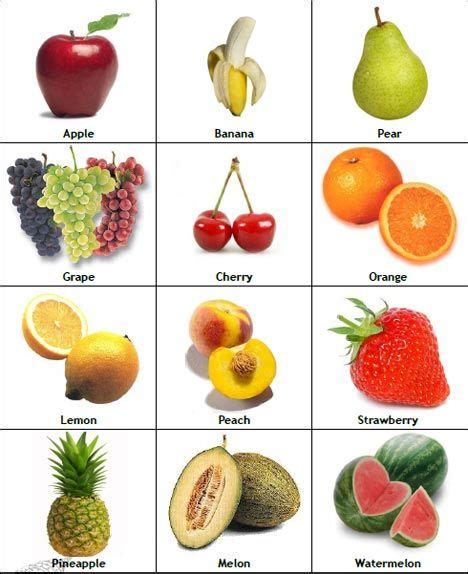apple: (31, 33, 121, 120)
